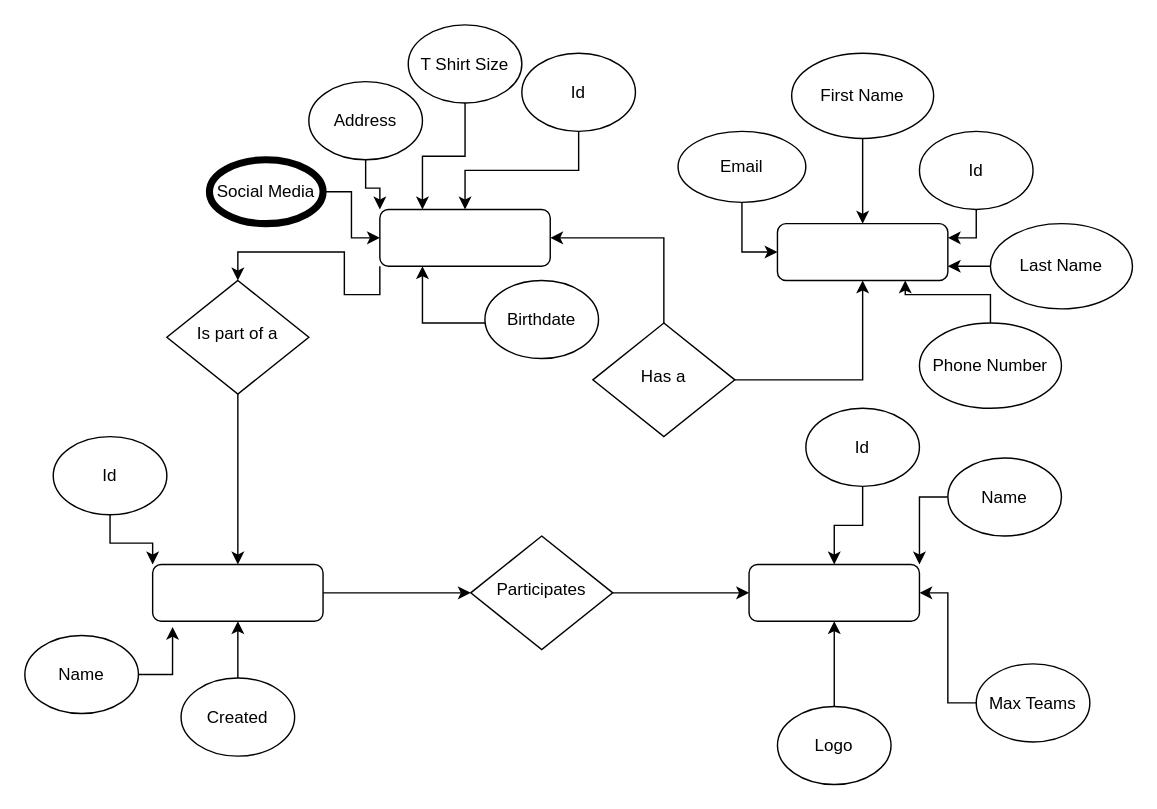
The diagram is 1157 pixels wide and 809 high, and some of its shapes have lost their labels. The shapes that lost their labels are listed below. From the top down, each one's centre as x and y in pixels, then its label:
At pixel 464 237: "Profile".
At pixel 862 251: "User".
At pixel 237 592: "Team".
At pixel 833 592: "Contest".
